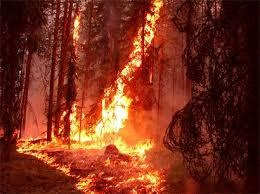fire: (71, 13, 82, 45)
